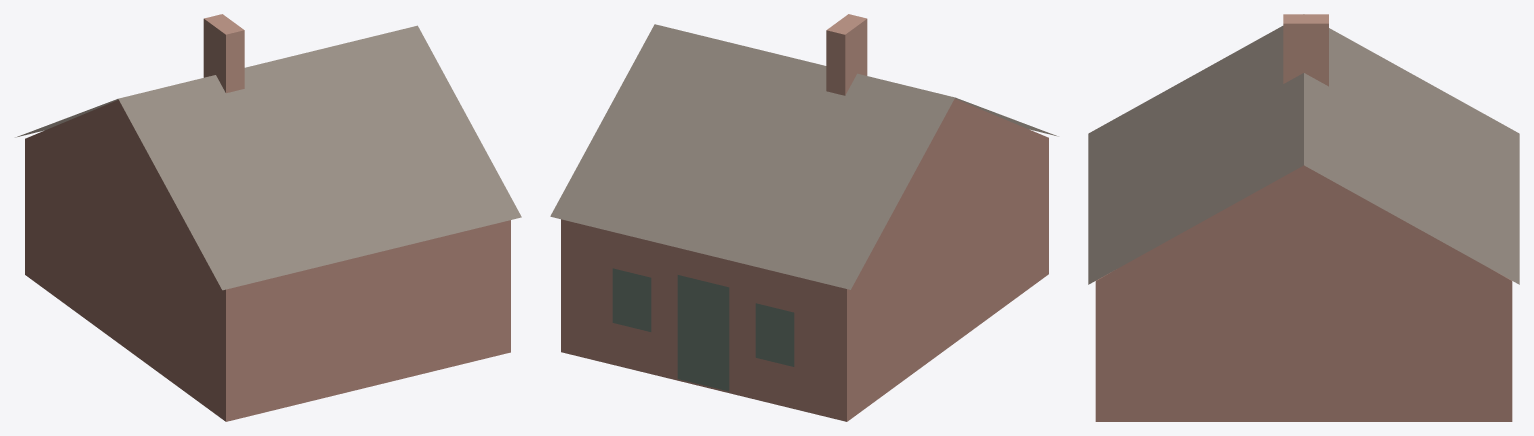
File: recon_1835_north_d1_001__recommended_1835.glb
3 renders of one model, left to right at view 1: azimuth 30°, elevation 25°; view 2: azimuth 150°, elevation 25°; view 3: azimuth 270°, elevation 25°, orthographic. The views are drawn at different scales.
Parts seen in each view (by area): view 1: recon_1835_north_d1_001__recommended_1835; view 2: recon_1835_north_d1_001__recommended_1835; view 3: recon_1835_north_d1_001__recommended_1835.
Boxes of the visible parts, <box> form: recon_1835_north_d1_001__recommended_1835: <box>15,14,521,421</box>; recon_1835_north_d1_001__recommended_1835: <box>550,14,1058,421</box>; recon_1835_north_d1_001__recommended_1835: <box>1088,14,1519,421</box>.
Size of the model in its own units: 5.77 by 5.5 by 6.95.
